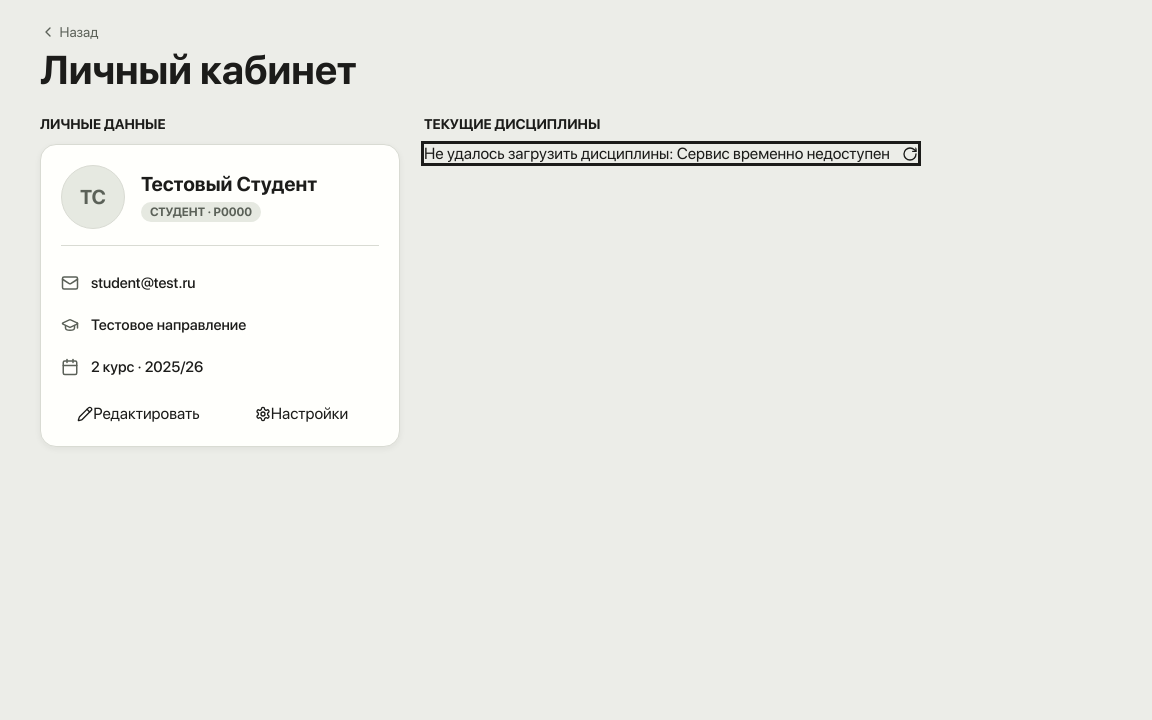
AccountPage › состояния загрузки › «Повторить» загружает заново только то, что не загрузилось
Click the button with class "account-page__retry": (910, 154) 902,144 -> 918,163
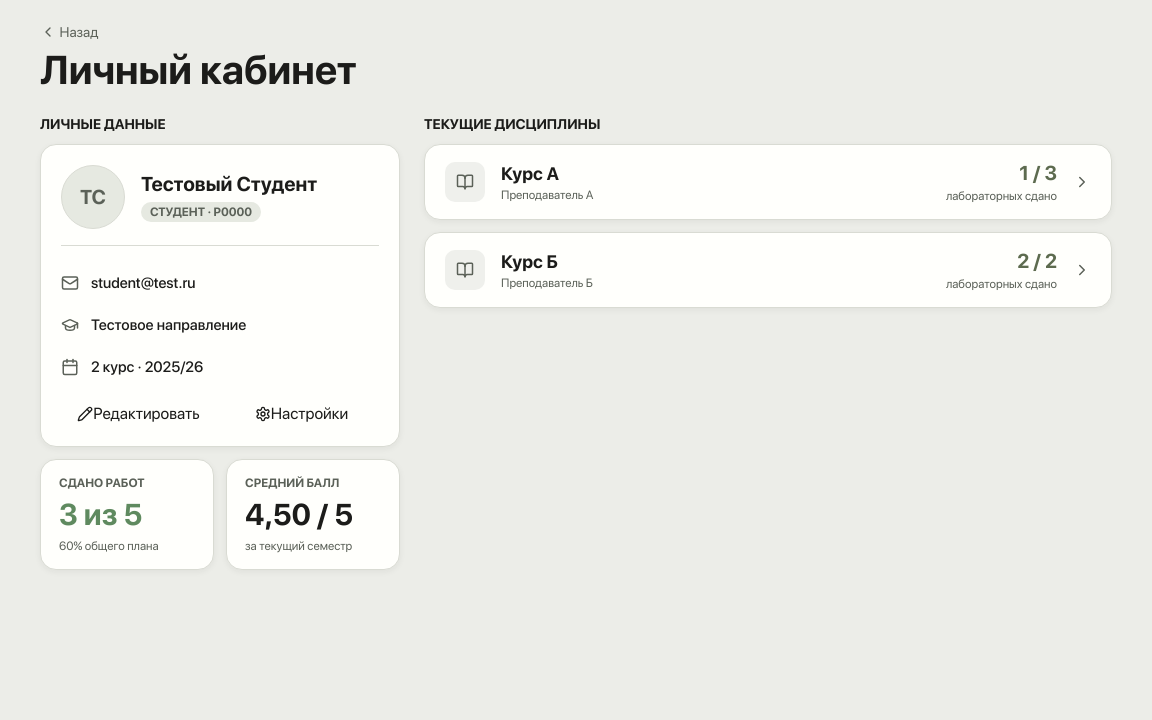
Now the text "Курс А" is shown, box 501,162 -> 559,184
